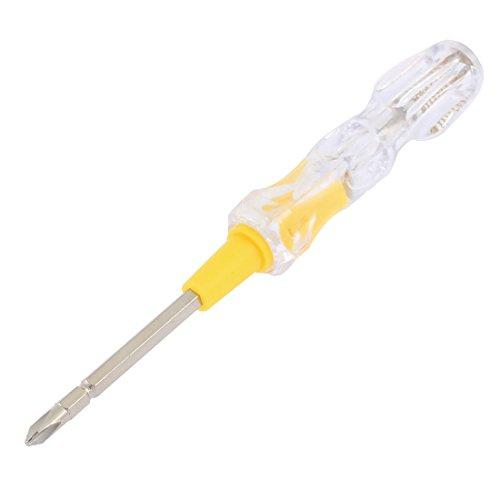Screwdriver: (18, 26, 493, 456)
